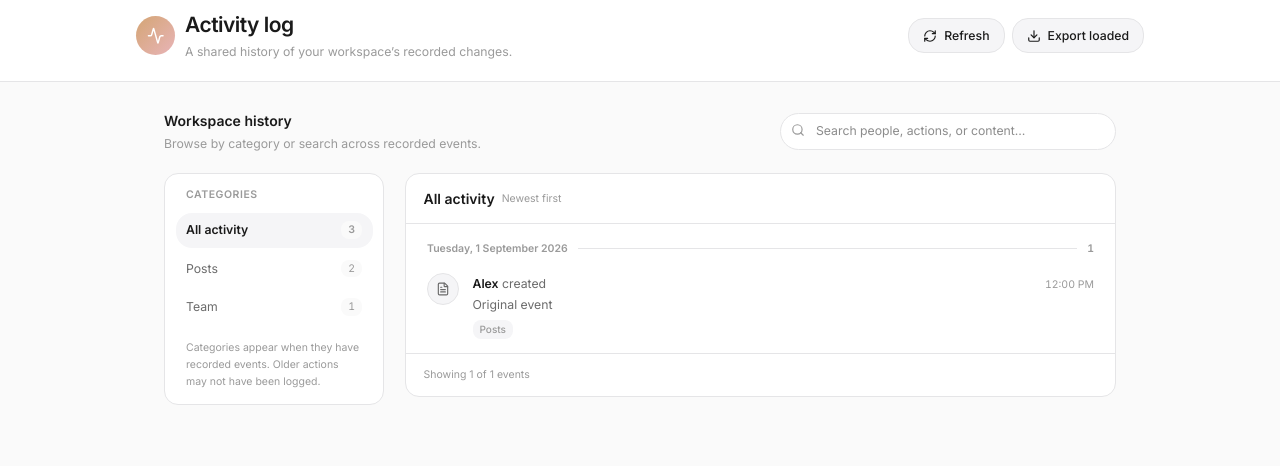
Test: Activity page › retains history on refresh failure and replaces it after a successful retry
Expected: the text "Original event" is shown, [472,297,552,312]
Click the button with aria-label "Refresh activity" at (956,36), box [908,18,1005,53]
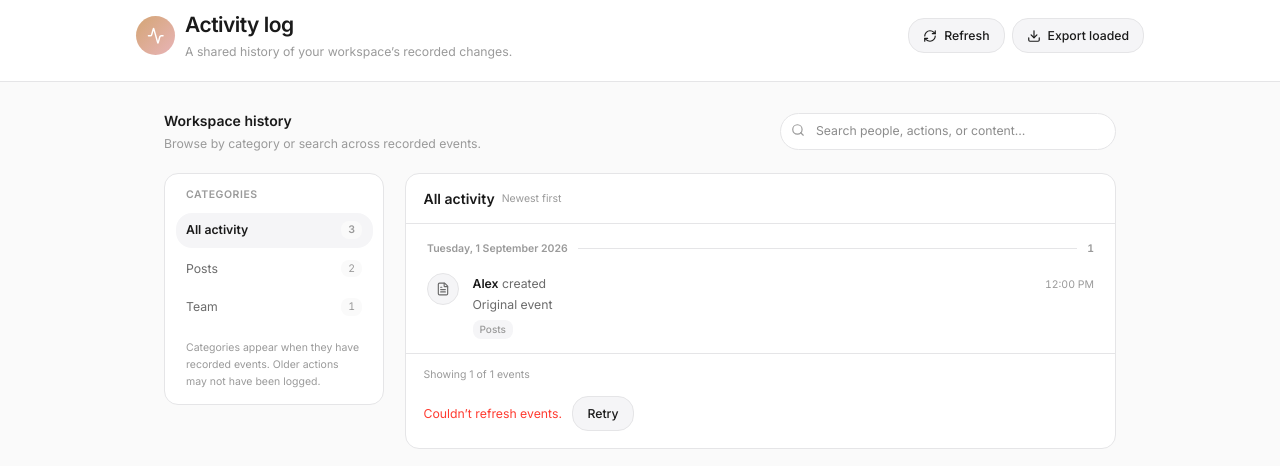
Expected: the text "Original event" is shown, [472,297,552,312]
Result: the message "Couldn’t refresh events. Retry" is shown at [424,396,634,431]
Click the button "Retry" at (603,413), box [572,396,634,431]
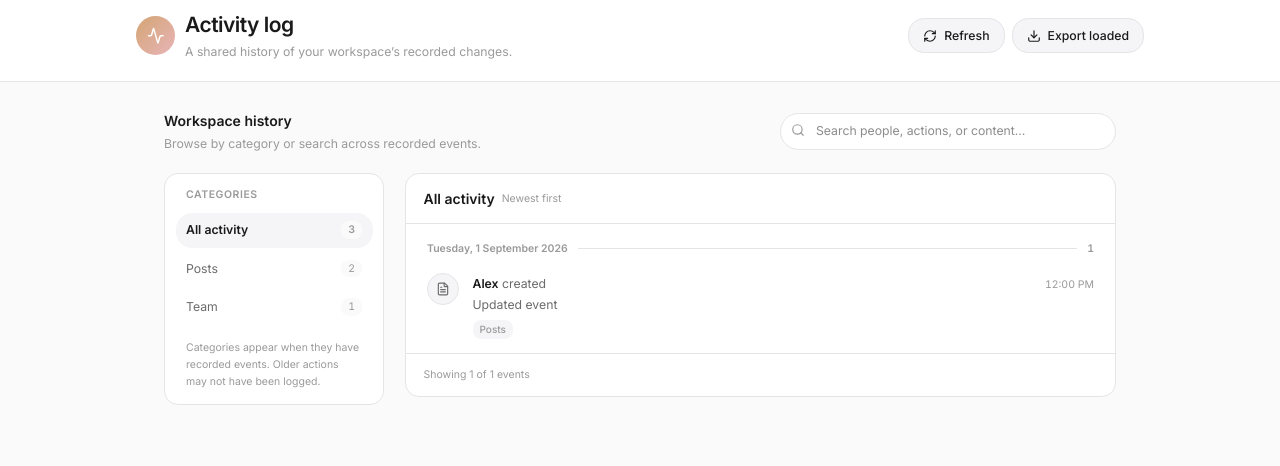
Result: the text "Updated event" is shown at [472,297,557,312]
Result: the text "Original event" is gone
Result: the message "Couldn’t refresh events. Retry" is gone
